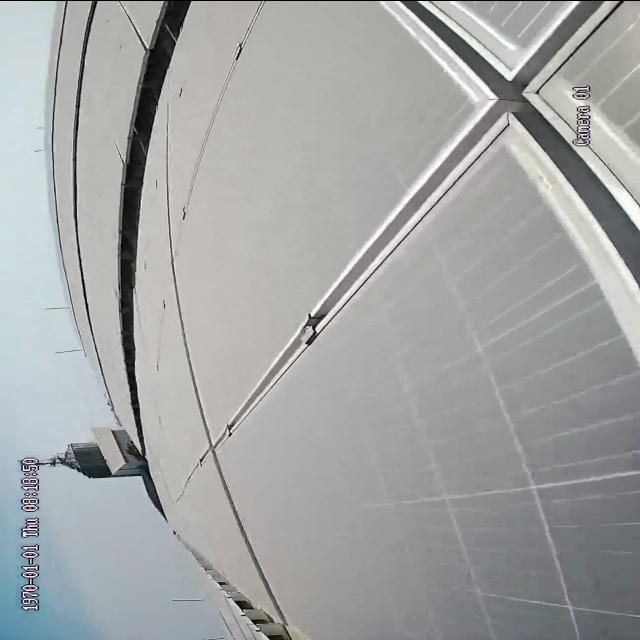interior panel: (162, 0, 640, 608)
outher panel: (118, 0, 194, 440), (184, 541, 312, 640)
